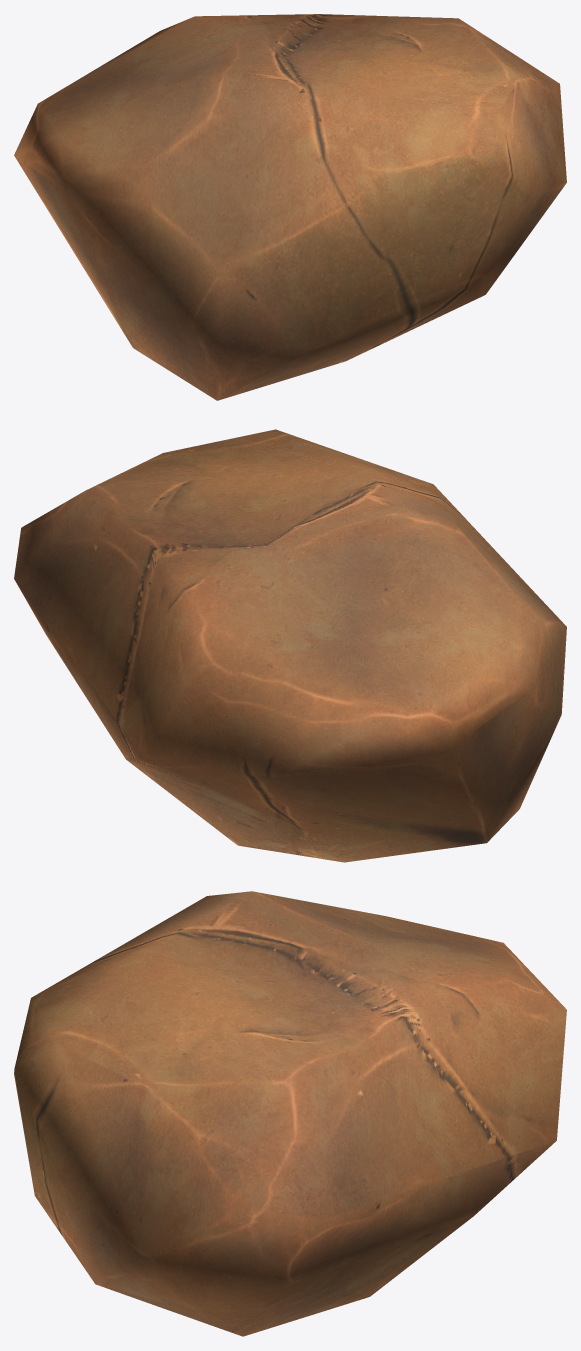
Rendered from SmallRock1.fbx.
3 views of the same model, one above another, from view 1: azimuth 30°, elevation 25°; view 2: azimuth 150°, elevation 25°; view 3: azimuth 270°, elevation 25° (orthographic). The views are drawn at different scales.
Visible parts, largest first — view 1: SmallRock1; view 2: SmallRock1; view 3: SmallRock1.
Part boxes in pixels (x1,y1,x2,y2): SmallRock1: [14, 14, 566, 400]; SmallRock1: [14, 429, 566, 862]; SmallRock1: [14, 891, 566, 1336].
Size of the model in its own units: 43.9 by 25.89 by 36.01.
